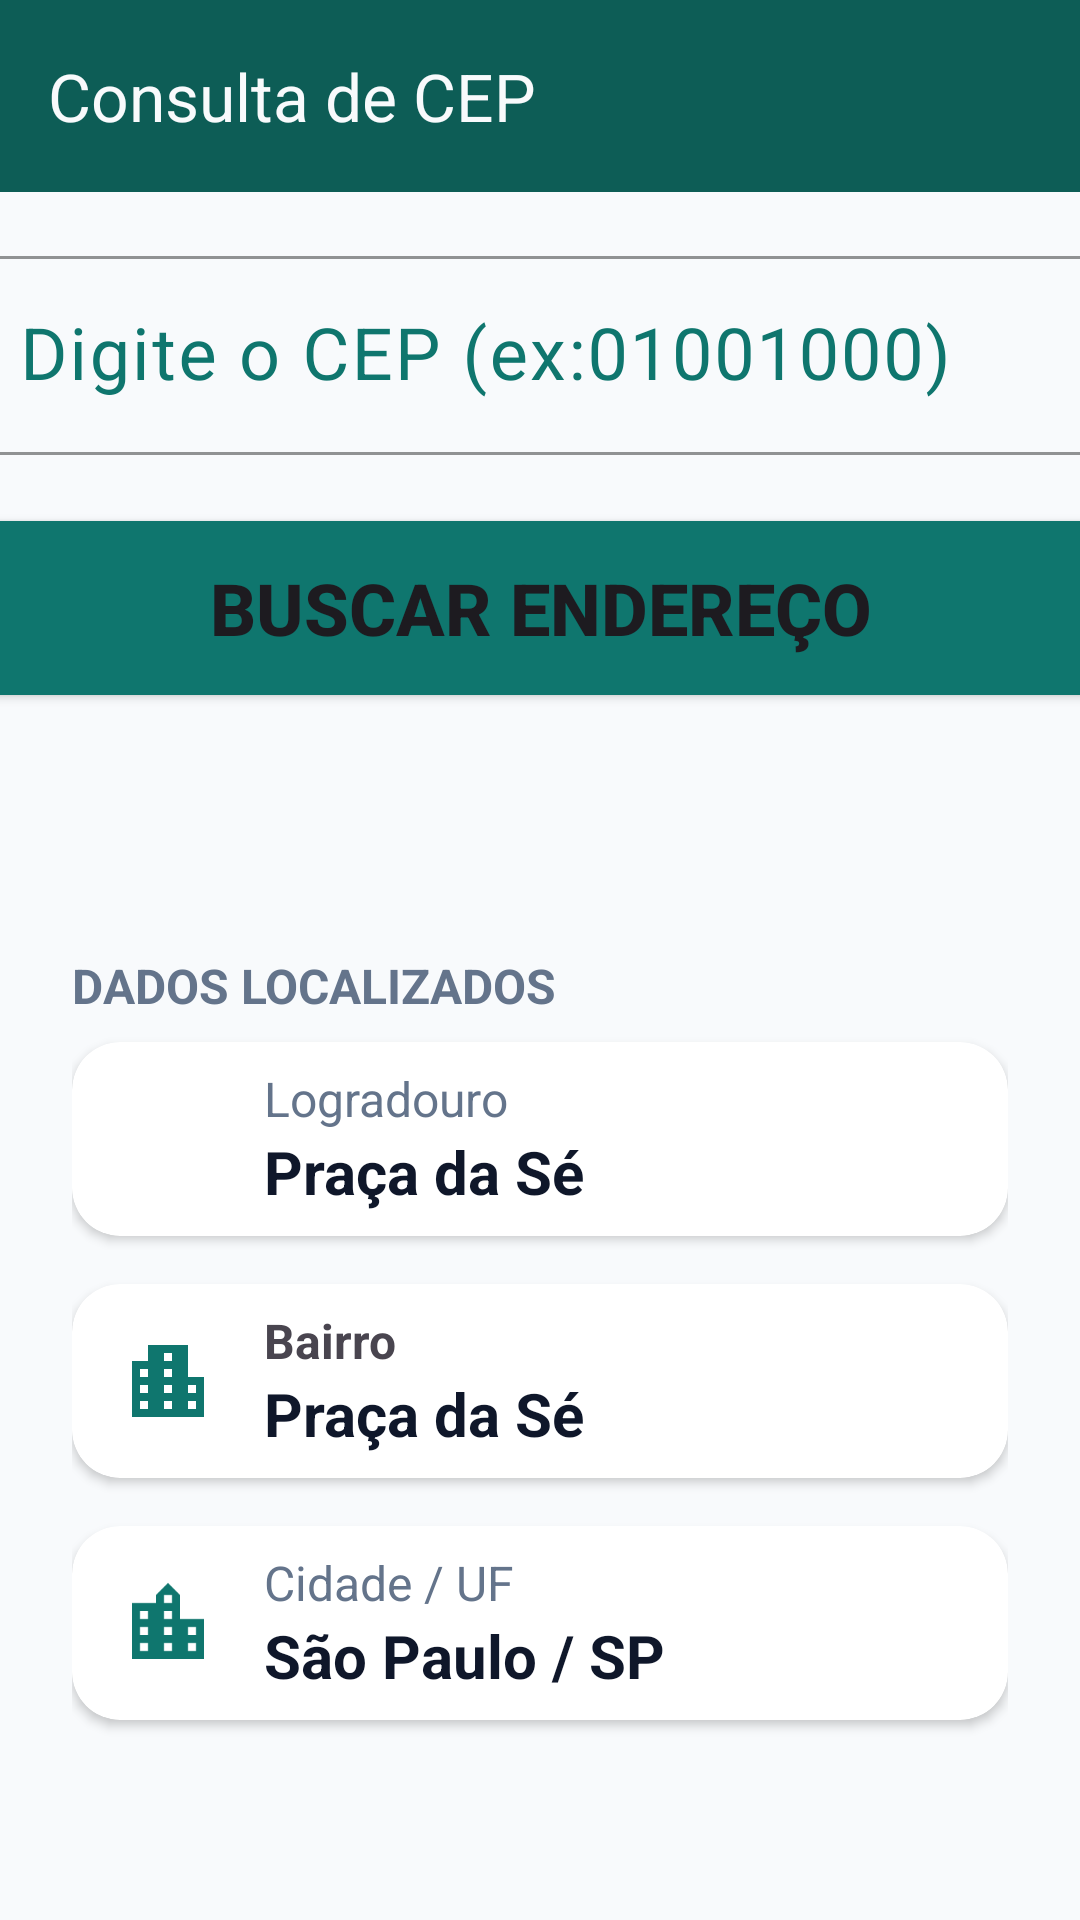

Locate icon controls on the screen. Image size 1080×1920, boxes as (x1,y1,x2,y2).
apartment: (132,1345,204,1417)
location city: (132,1583,204,1659)
